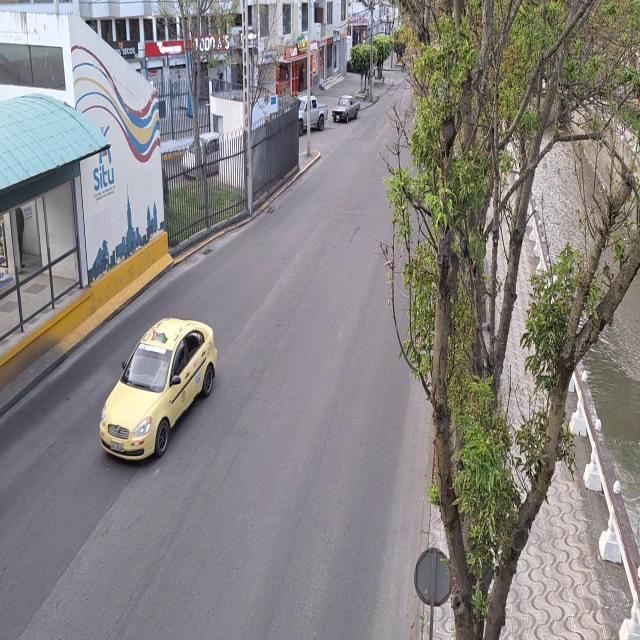CMT: (298, 96, 329, 130), (332, 95, 360, 124)
